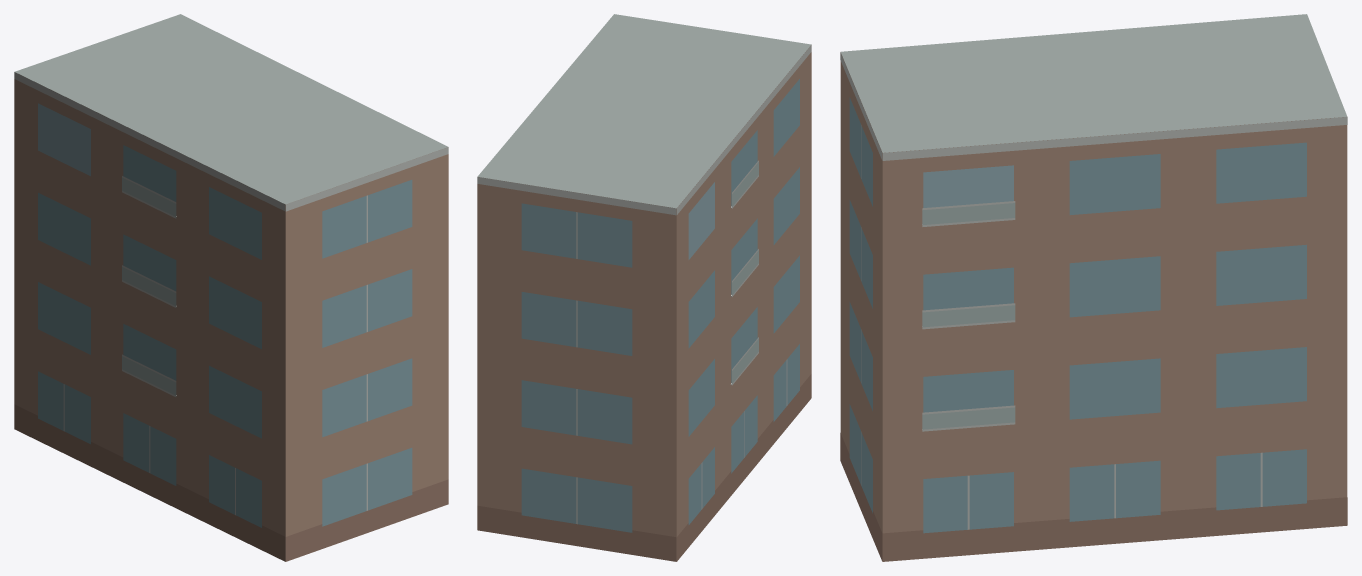
File: survey-upis-32879053.glb
The picture shows the model from 3 angles, left to right: view 1: azimuth 30°, elevation 25°; view 2: azimuth 150°, elevation 25°; view 3: azimuth 270°, elevation 25°; orthographic projection. The views are drawn at different scales.
Visible parts, largest first — view 1: survey-upis-32879053.tmp; view 2: survey-upis-32879053.tmp; view 3: survey-upis-32879053.tmp.
Boxes of the visible parts, x1,y1,x2,y2 form: survey-upis-32879053.tmp: (14,14,448,561); survey-upis-32879053.tmp: (477,14,811,561); survey-upis-32879053.tmp: (840,14,1347,561).
Bounding box in the file's own units: 8.93 × 12.25 × 13.77.
